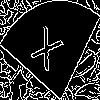X: (24, 24, 65, 83)
